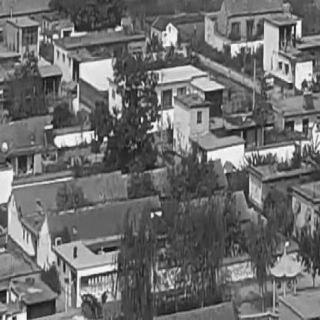other: (42, 204, 164, 230), (206, 87, 224, 116)
